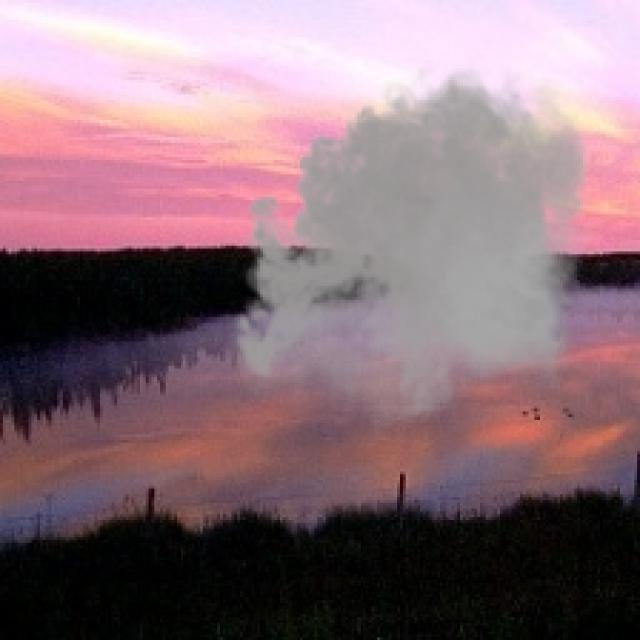Smoke: (223, 54, 603, 440)
